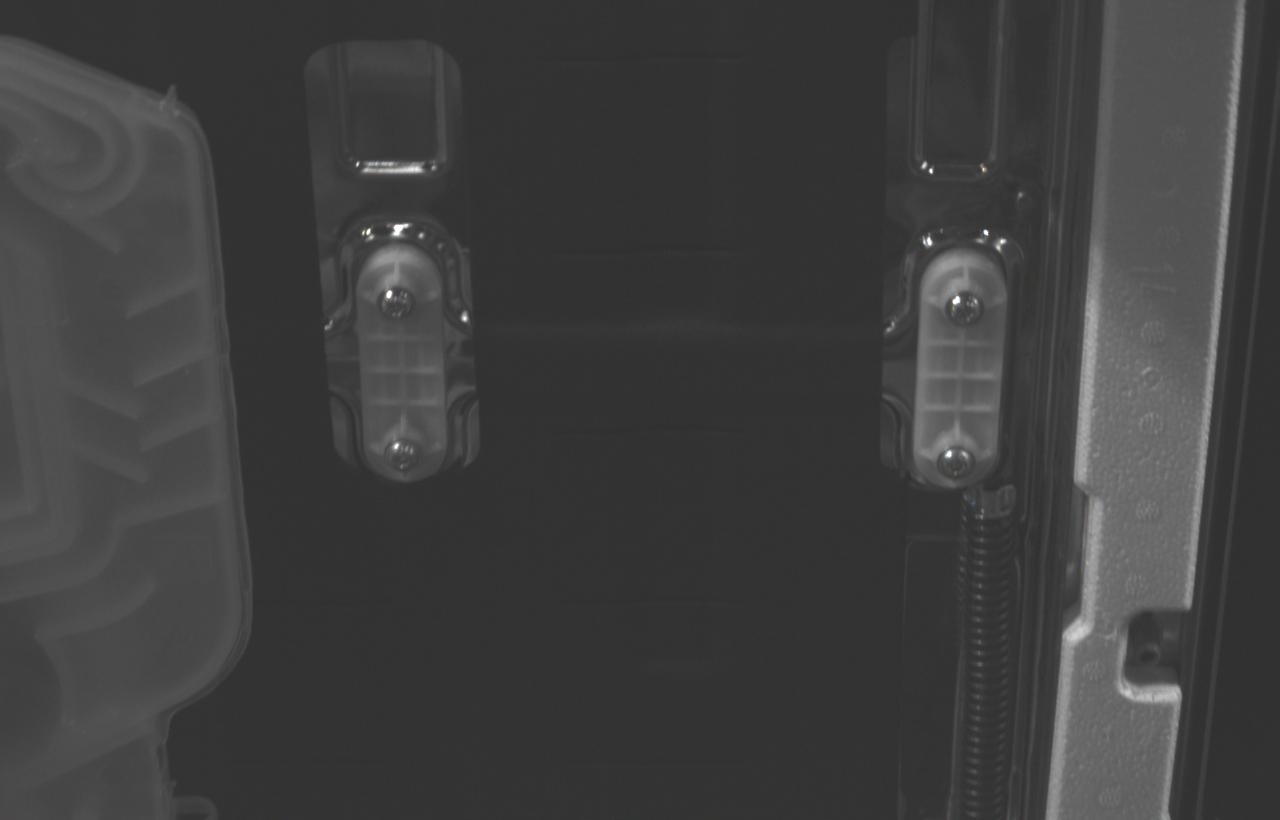vida-ok: (945, 291, 984, 328), (936, 445, 976, 481), (384, 439, 420, 472), (380, 286, 413, 320)
